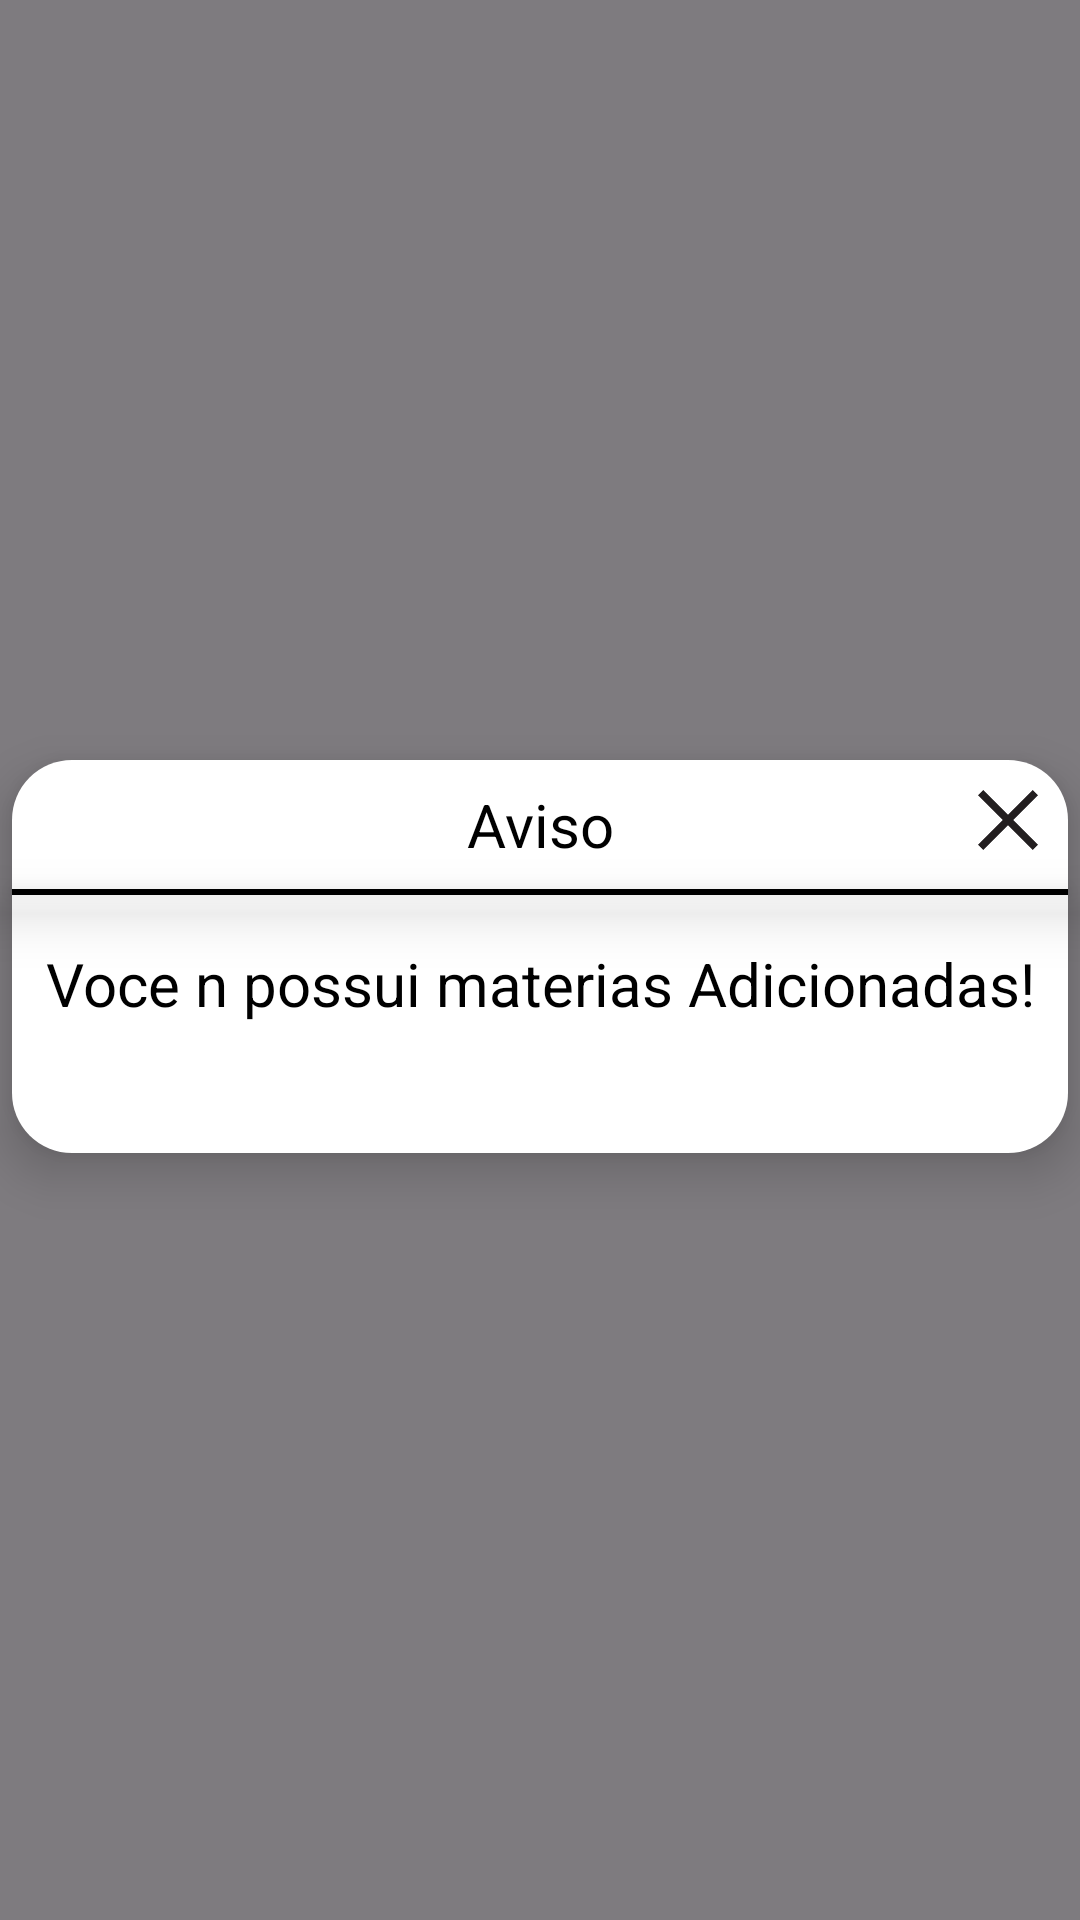

Named icons in this screenshot (1080w x 1920h) and their centers, (x,y):
close: (1008,820)
